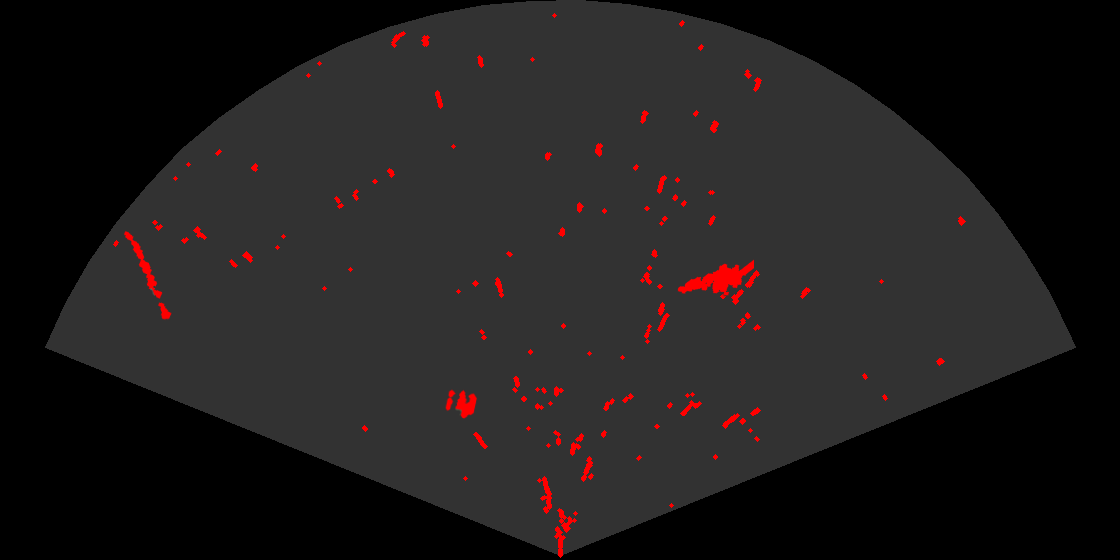ball: (444, 388, 479, 420)
chain: (122, 230, 173, 322)
frogman: (676, 258, 754, 297)
